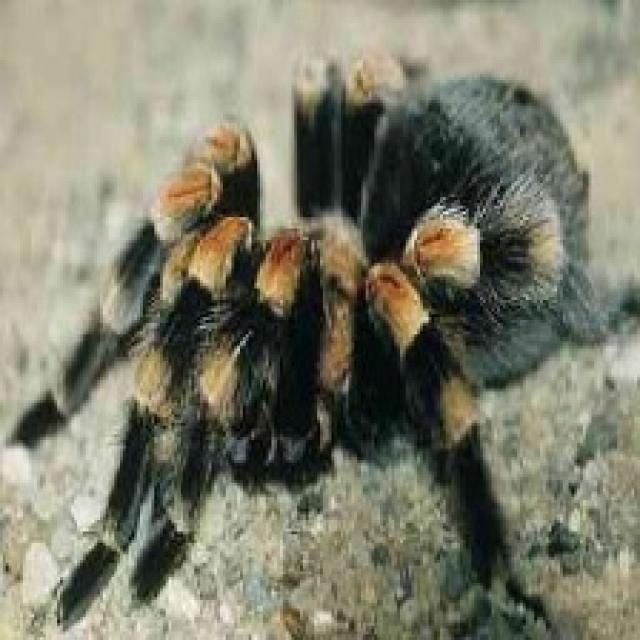Non venomous spider: (32, 66, 640, 640)
